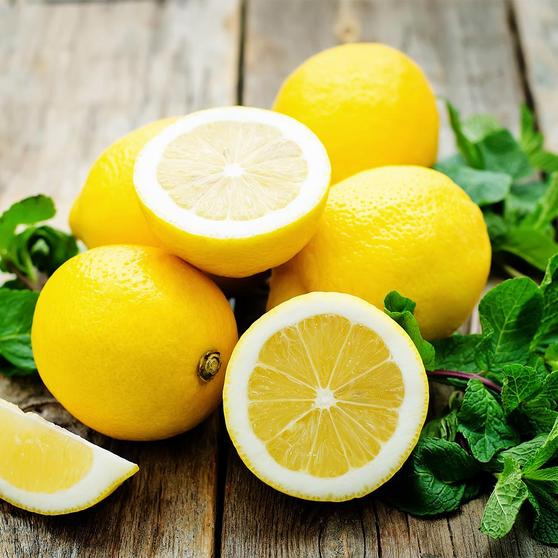lemon: (30, 249, 235, 433)
